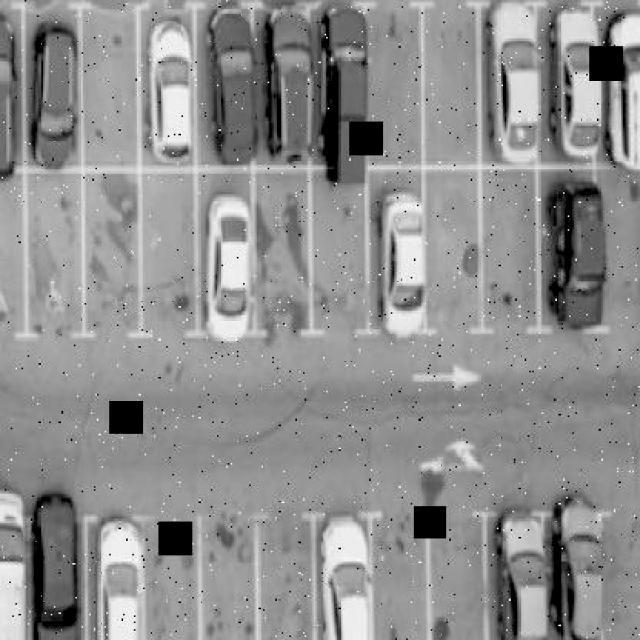space-empty: (370, 10, 419, 156), (486, 186, 535, 312), (92, 18, 131, 157), (91, 183, 135, 303), (428, 12, 465, 146), (322, 179, 360, 305), (265, 190, 302, 319), (440, 534, 483, 640), (442, 183, 473, 323), (33, 206, 72, 317), (371, 538, 413, 640), (208, 532, 247, 640), (149, 185, 183, 304), (271, 546, 307, 640), (614, 520, 640, 640), (615, 196, 640, 313), (162, 551, 193, 640), (0, 189, 15, 301)
space-occupied: (381, 169, 434, 331), (203, 5, 256, 167), (552, 166, 611, 308), (319, 3, 367, 172), (318, 504, 373, 640), (488, 1, 534, 162), (270, 0, 316, 157), (553, 18, 602, 157), (153, 7, 198, 155), (500, 507, 546, 640), (556, 523, 607, 640), (209, 202, 255, 328), (43, 498, 82, 640), (37, 18, 74, 160), (108, 520, 151, 640), (609, 36, 640, 149), (0, 500, 22, 639), (0, 31, 17, 151)
